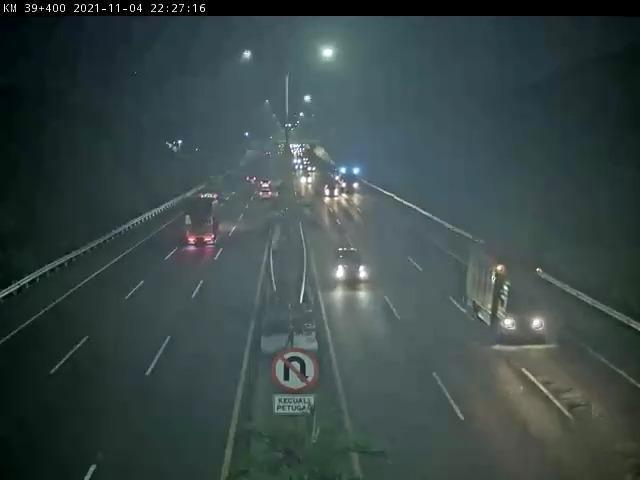car: (331, 246, 369, 285), (258, 189, 274, 203)
truck: (465, 245, 546, 342), (186, 198, 220, 245), (197, 177, 225, 202)
